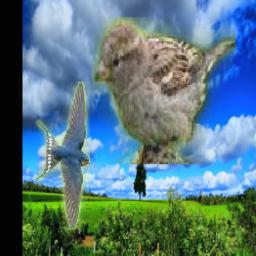Sparrow: (93, 17, 236, 164)
Swallow: (35, 83, 91, 231)
